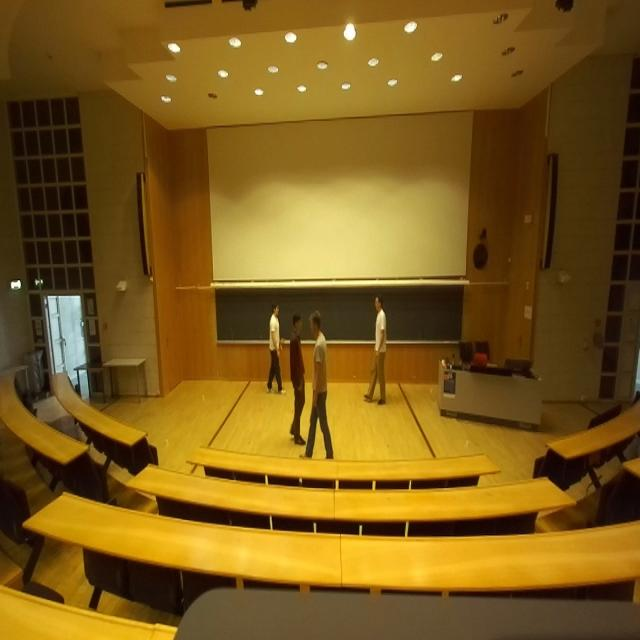person: (298, 311, 334, 459), (363, 294, 386, 405), (289, 313, 306, 445), (266, 302, 286, 394)
